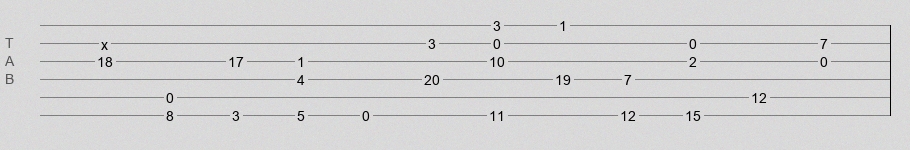0: (166, 90, 174, 100), (362, 108, 370, 118), (493, 36, 501, 46), (689, 36, 697, 46), (820, 54, 828, 64)
1: (297, 54, 305, 64), (559, 18, 567, 28)
10: (489, 54, 505, 64)
11: (489, 108, 505, 118)
12: (620, 108, 636, 118), (751, 90, 767, 100)
15: (685, 108, 701, 118)
17: (228, 54, 244, 64)
18: (97, 54, 113, 64)
19: (555, 72, 571, 82)
2: (689, 54, 697, 64)
20: (424, 72, 440, 82)
3: (232, 108, 240, 118), (428, 36, 436, 46), (493, 18, 501, 28)
4: (297, 72, 305, 82)
5: (297, 108, 305, 118)
7: (624, 72, 632, 82), (820, 36, 828, 46)
8: (166, 108, 174, 118)
x: (101, 37, 108, 45)
